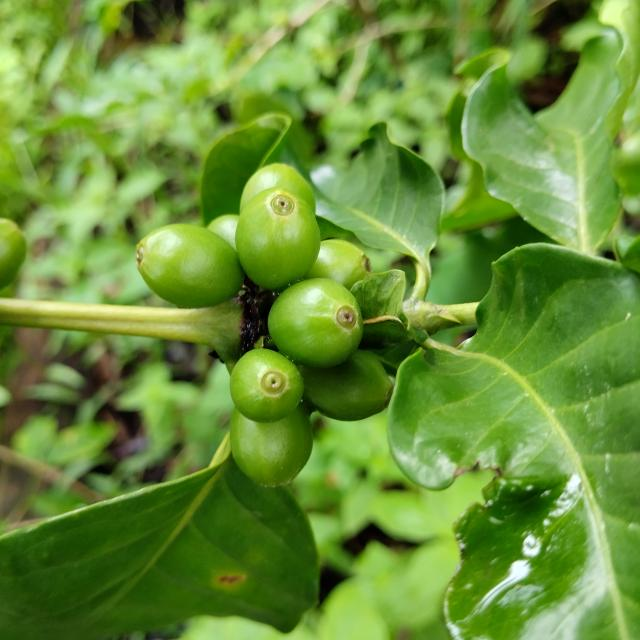green: (135, 224, 244, 308), (235, 186, 321, 291), (268, 278, 364, 368), (298, 350, 394, 422), (230, 404, 313, 487), (230, 349, 304, 423), (239, 163, 315, 212), (305, 239, 372, 290), (207, 214, 239, 249)
